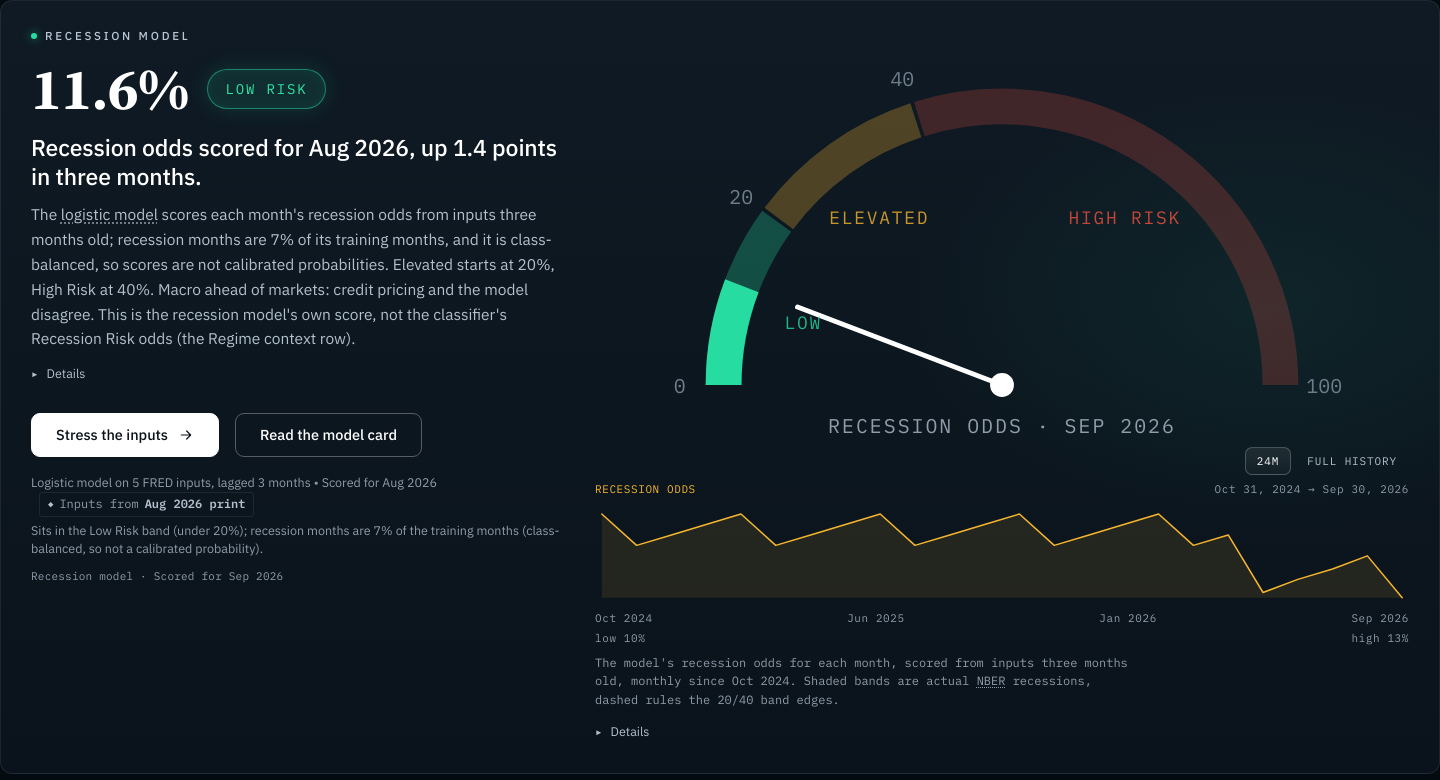
Test: RecessionScreen (checklist 07 E.1) › Full history flips aria-pressed, plots since the series' first month with the 20% Elevated and 40% High Risk labels on screen; 24M restores the short window
What coordinates should you click on to do the following:
click the button "Full history"
I would click on:
 (1352, 461)
Its box is 1295,447 -> 1409,475.
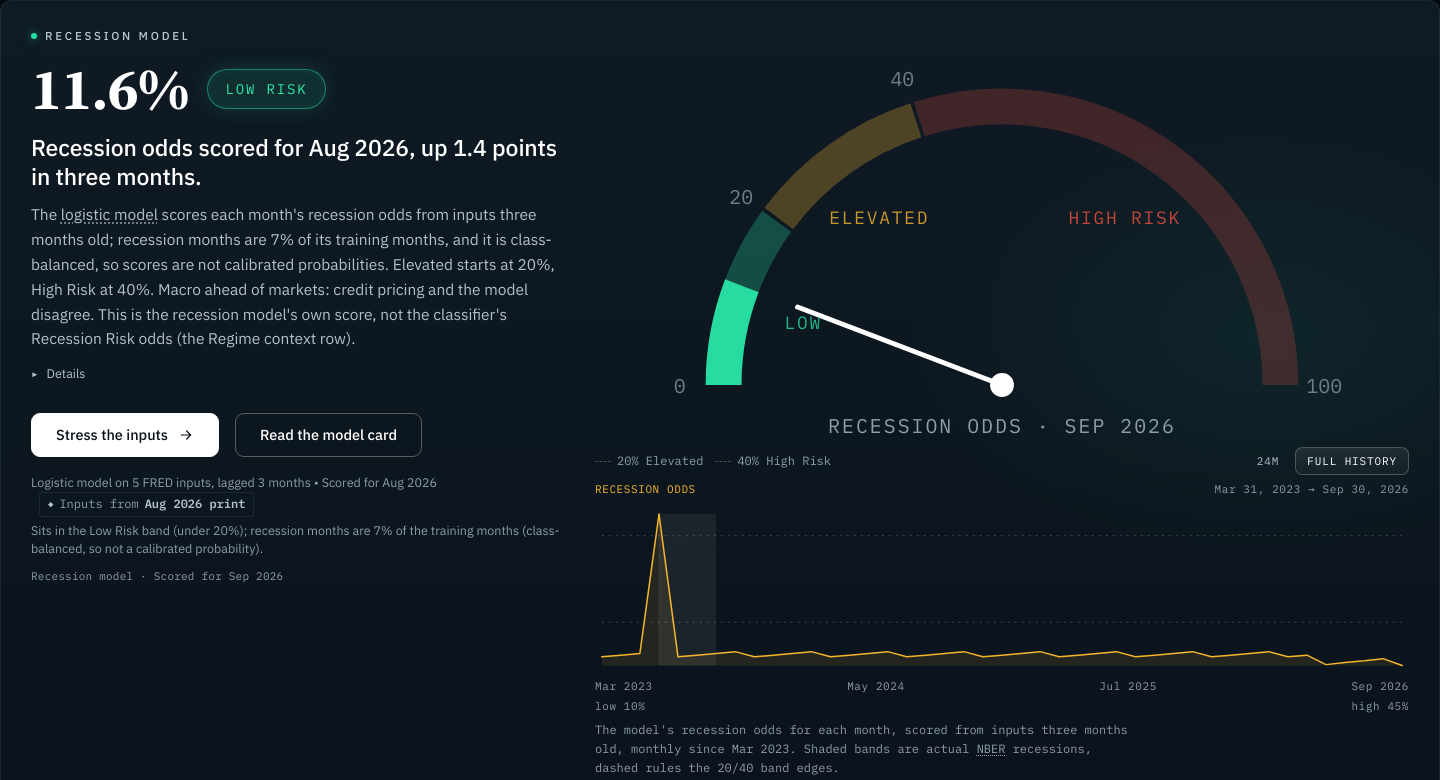
Expected: the text "Mar 31, 2023 → Sep 30, 2026" is shown, 1215,481 -> 1409,499
What coordinates should you click on to do the following:
click the button "24M"
I would click on:
 (1268, 461)
Its box is 1245,447 -> 1291,475.
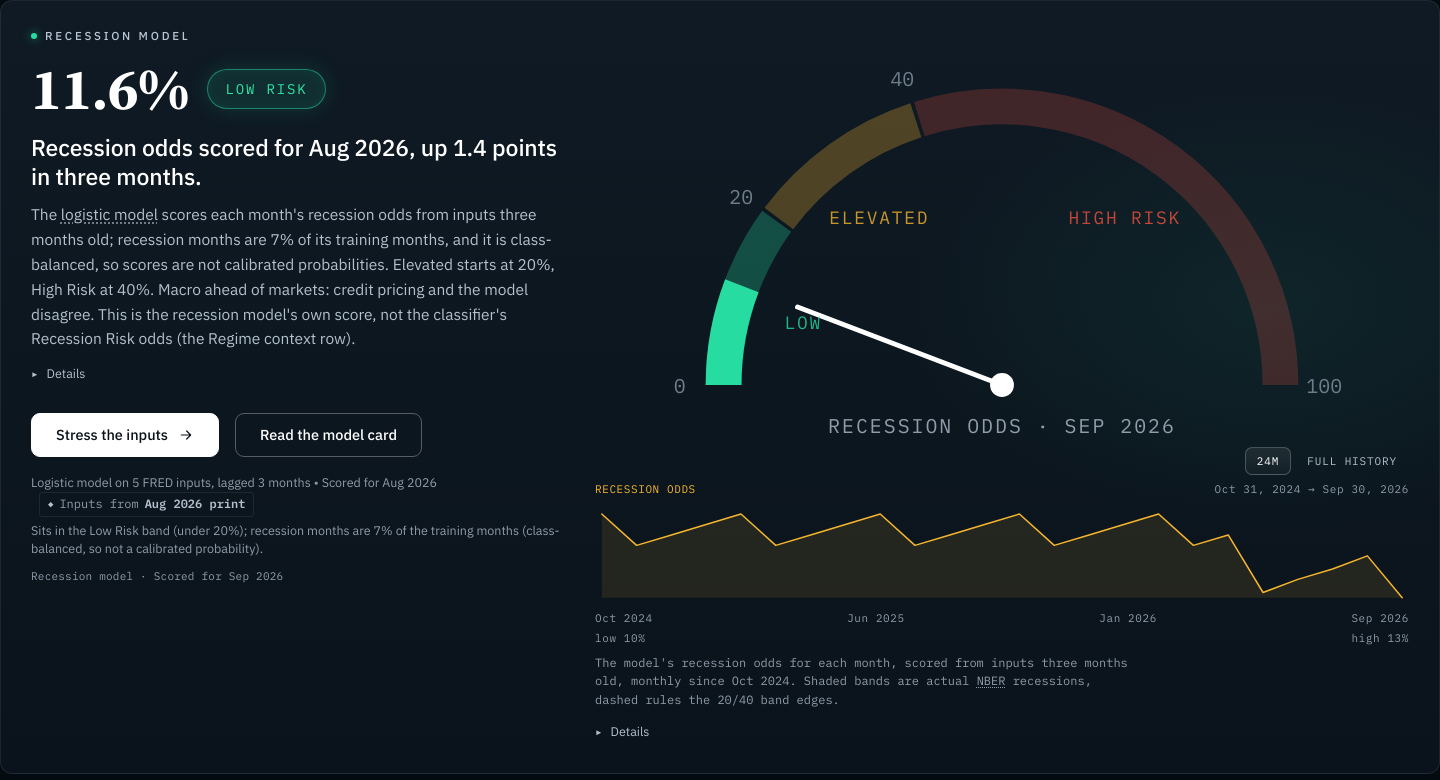
Expected: the text "Oct 31, 2024 → Sep 30, 2026" is shown, 1215,481 -> 1409,499
